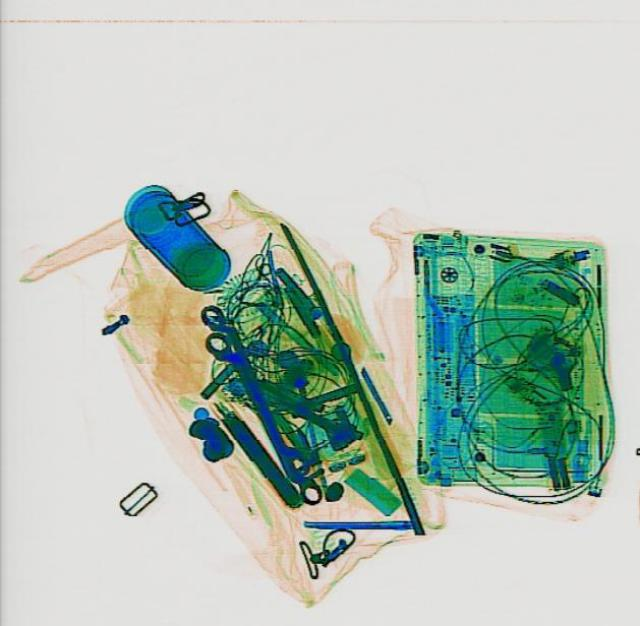Wrench: (194, 300, 326, 506)
